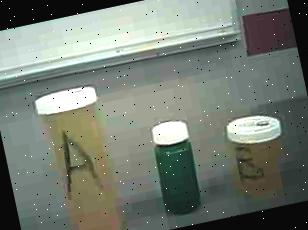Bottle A: (29, 77, 136, 230)
Bottle B: (217, 106, 299, 208)
Bottle C: (142, 112, 209, 223)
